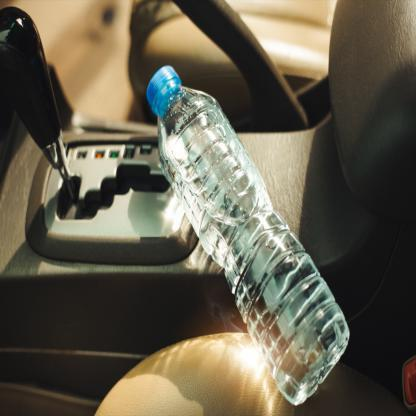bottle: (142, 46, 359, 416)
